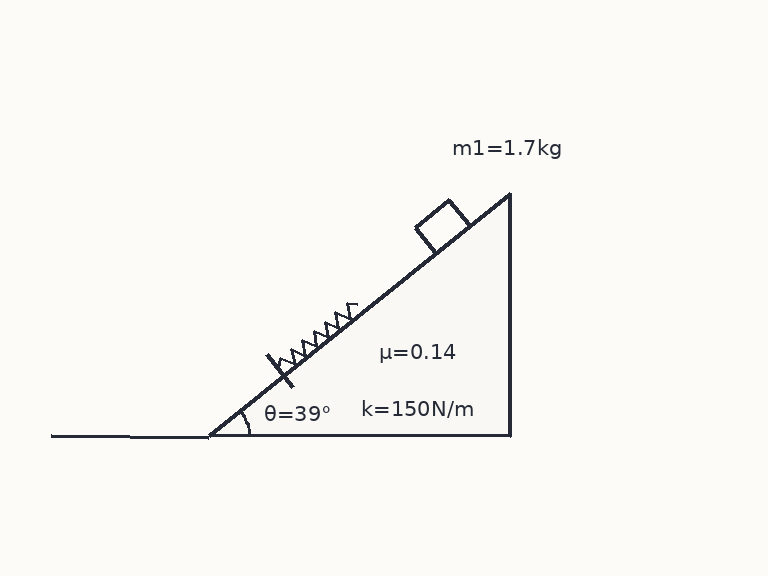block: (413, 198, 471, 255)
ramp: (207, 190, 512, 438)
spring: (277, 302, 359, 370)
